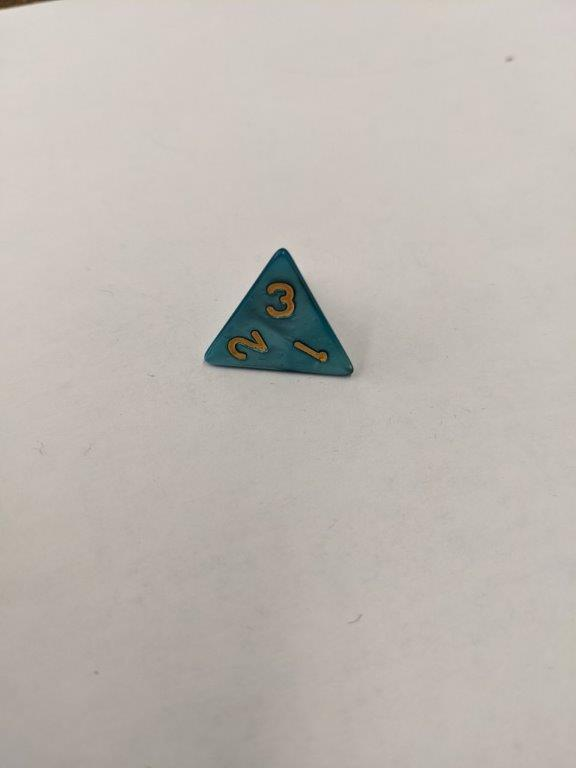d4-3: (201, 246, 359, 387)
